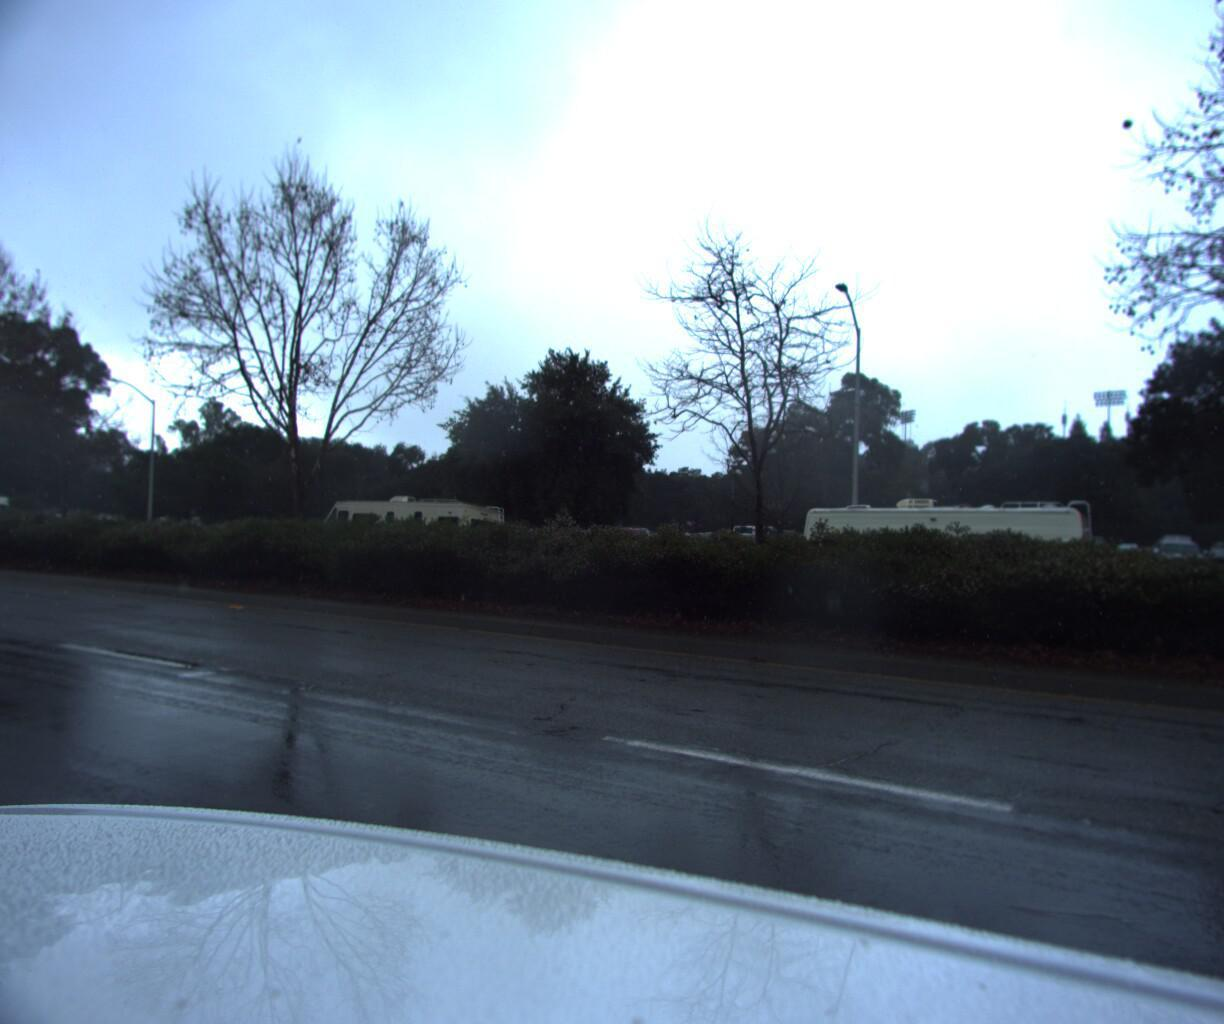other_vehicle: (786, 485, 1111, 620), (312, 491, 512, 578), (0, 490, 13, 549)
